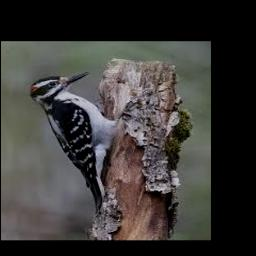Woodpecker: (30, 72, 118, 212)
